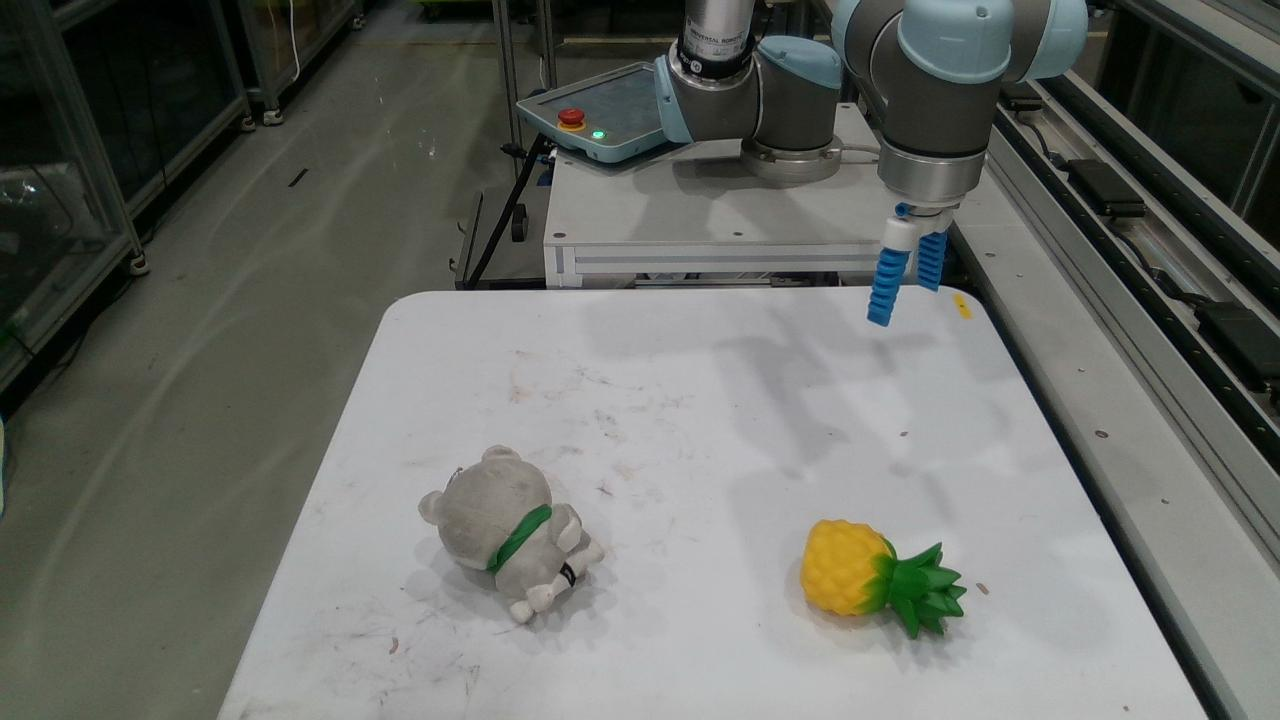UR5: (654, 0, 1090, 252)
gripper_left: (867, 247, 912, 326)
gripper_right: (918, 230, 948, 292)
target: (418, 444, 604, 624), (798, 518, 968, 641)
